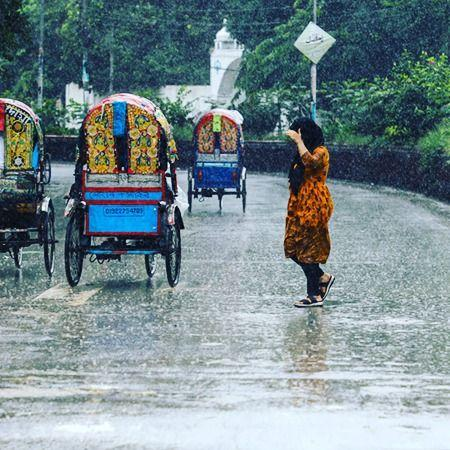Rickshaw: (65, 94, 183, 286), (0, 98, 55, 275), (188, 109, 246, 211)
